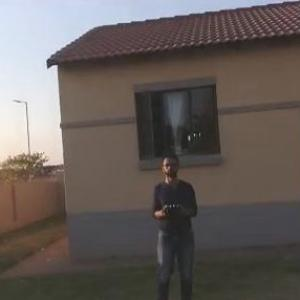follow: (145, 147, 203, 299)
